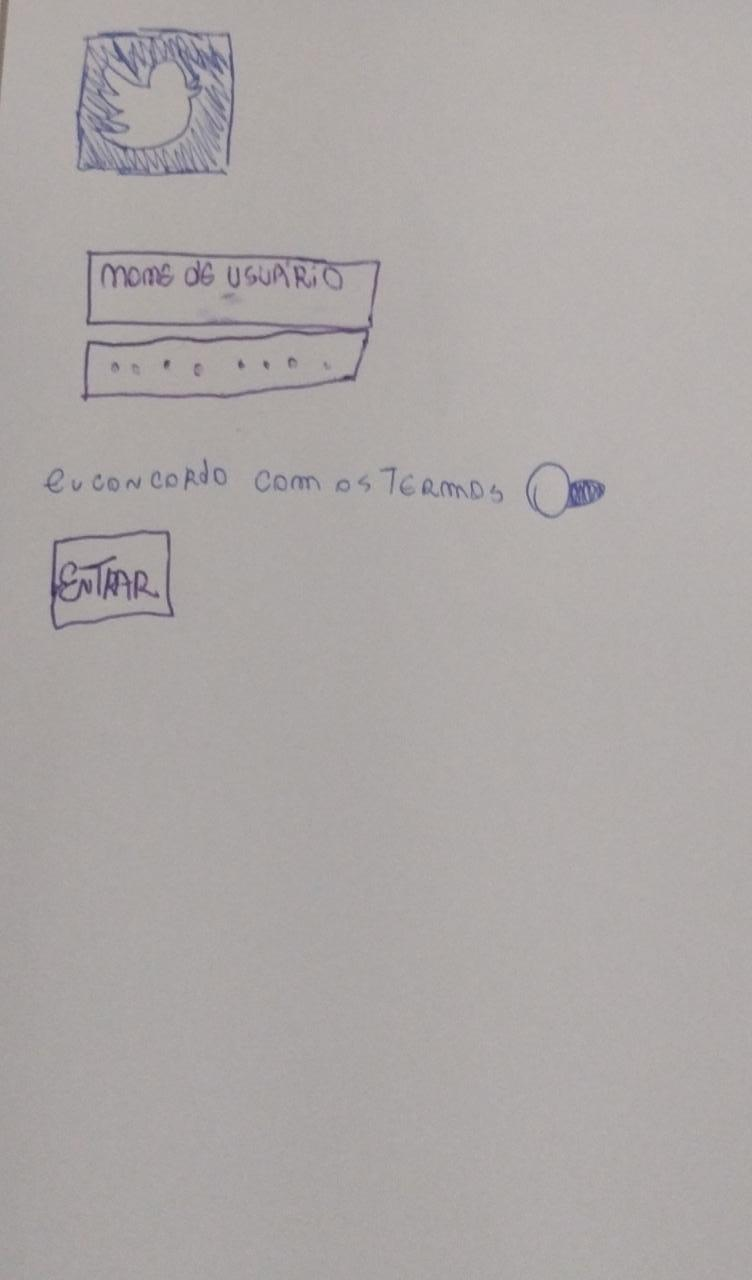Button: (82, 252, 377, 330), (81, 330, 371, 400), (47, 530, 175, 631)
Image: (75, 30, 235, 179)
Screen: (0, 0, 751, 1279)
Switch: (43, 457, 611, 518)
